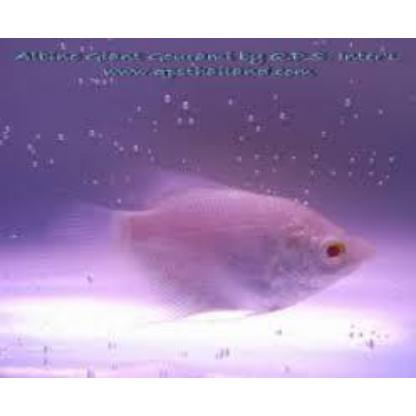gurame: (50, 170, 376, 326)
